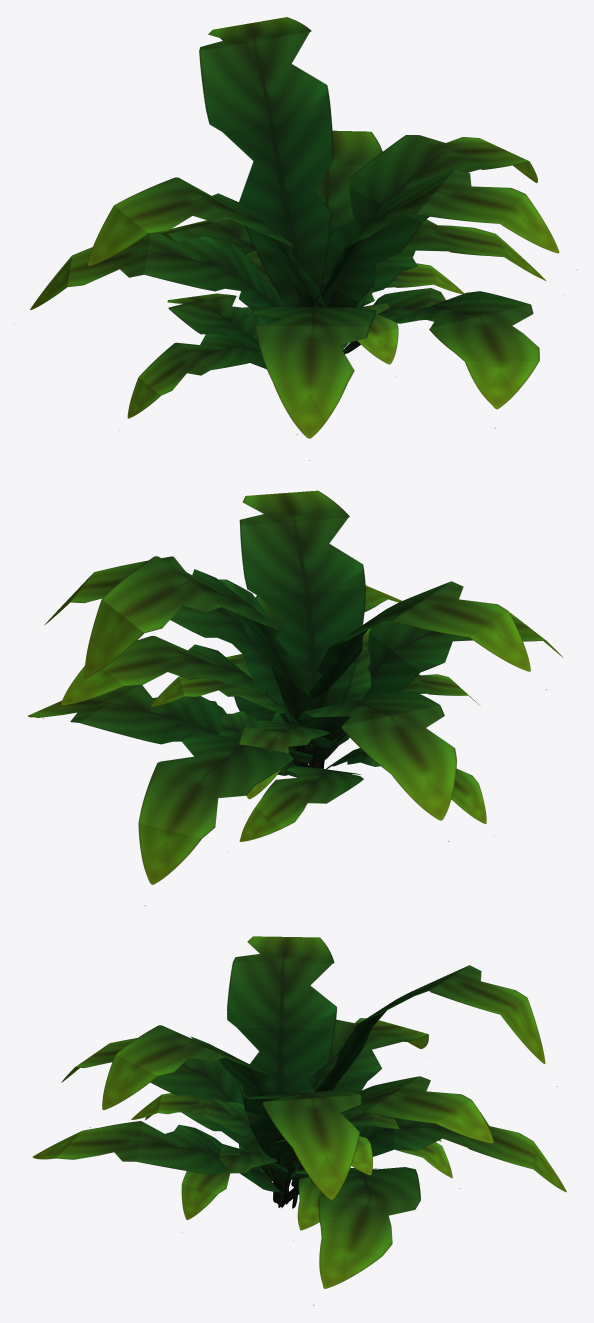
The model's file is SM_Plant_G.glb.
The picture shows the model from 3 angles, top to bottom: view 1: azimuth 30°, elevation 25°; view 2: azimuth 150°, elevation 25°; view 3: azimuth 270°, elevation 25°; orthographic projection. The views are drawn at different scales.
Parts seen in each view (by area): view 1: SM_Plant_G; view 2: SM_Plant_G; view 3: SM_Plant_G.
Part boxes in pixels (bbox=[...]): SM_Plant_G: bbox=[30, 17, 577, 460]; SM_Plant_G: bbox=[28, 490, 562, 905]; SM_Plant_G: bbox=[32, 936, 566, 1305].
Size of the model in its own units: 2.28 by 1.21 by 2.46.
Materials: 1 (1 with a texture image).
